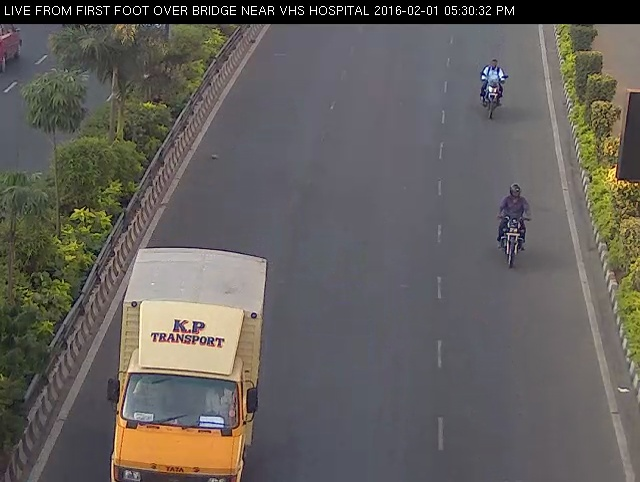Bus: (92, 239, 286, 481)
Person: (488, 167, 539, 282), (470, 45, 512, 131)
